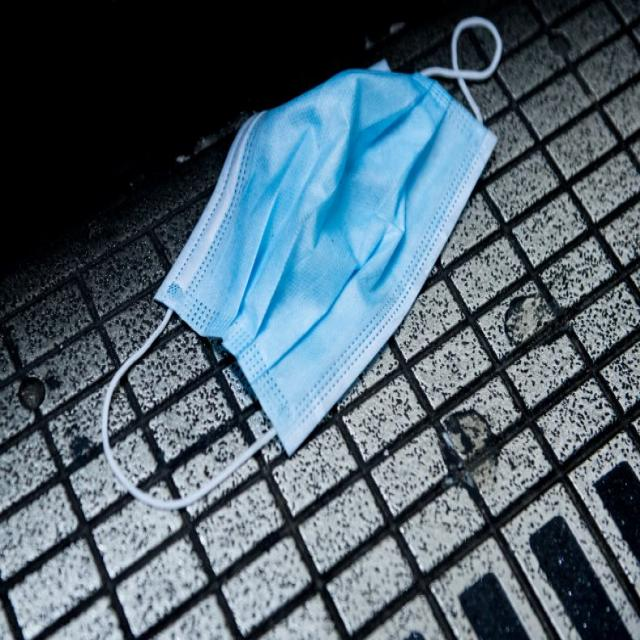non-organic waste: (97, 24, 506, 505)
